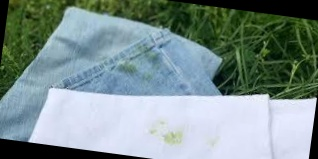earth: (150, 126, 183, 147), (136, 45, 159, 64), (116, 61, 136, 77)
